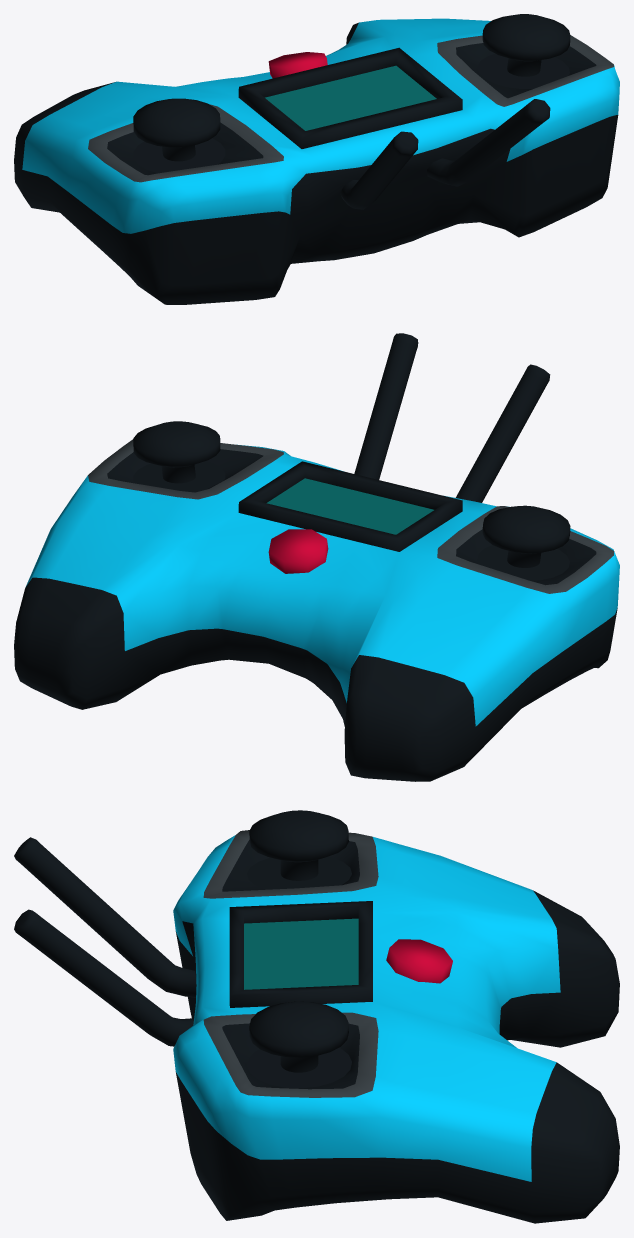
The model's file is Mini_Drone_Set_1_Blue_Controller_00.fbx.
The picture shows the model from 3 angles, top to bottom: view 1: azimuth 30°, elevation 25°; view 2: azimuth 150°, elevation 25°; view 3: azimuth 270°, elevation 25°; orthographic projection. The views are drawn at different scales.
Visible parts, largest first — view 1: Drone.Controller_5; view 2: Drone.Controller_5; view 3: Drone.Controller_5.
Boxes of the visible parts, x1,y1,x2,y2 form: Drone.Controller_5: (14,14,619,304); Drone.Controller_5: (14,333,619,781); Drone.Controller_5: (14,810,619,1223).
Size of the model in its own units: 0.2865 by 0.117 by 0.2677.
1 material, 1 textured.
